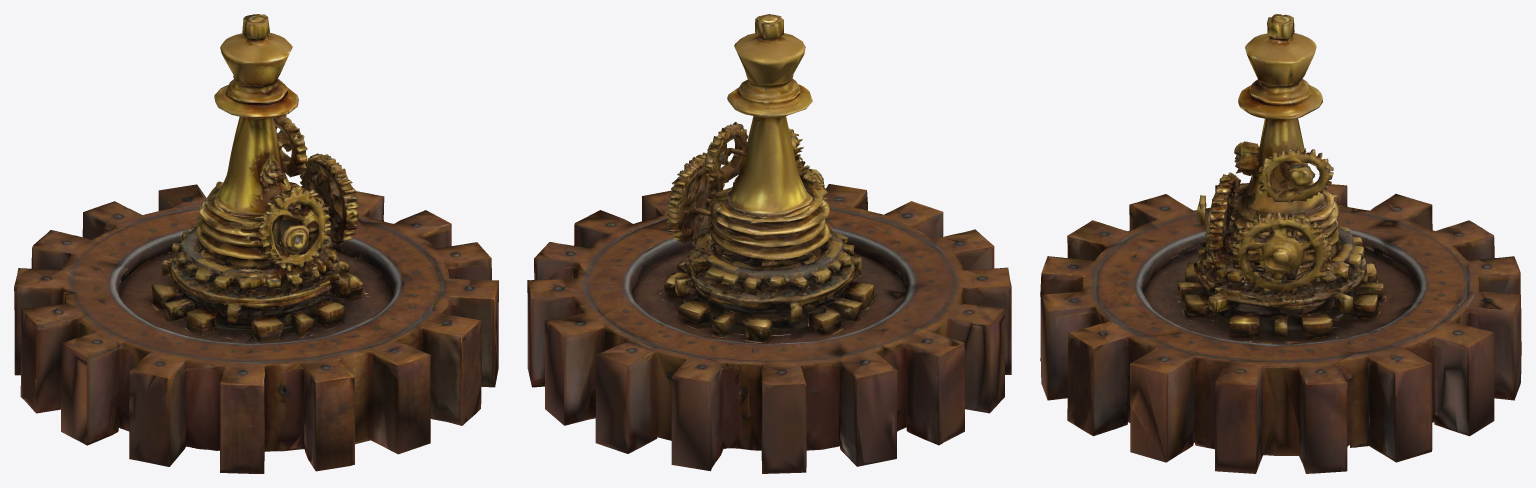
File: piece.glb
3 renders of one model, left to right at view 1: azimuth 30°, elevation 25°; view 2: azimuth 150°, elevation 25°; view 3: azimuth 270°, elevation 25°, orthographic.
Parts seen in each view (by area): view 1: Object_4; view 2: Object_4; view 3: Object_4.
Boxes of the visible parts, <box> form: Object_4: <box>14,14,498,473</box>; Object_4: <box>527,14,1011,473</box>; Object_4: <box>1040,14,1521,473</box>.
Bounding box in the file's own units: 2 × 1.63 × 2.
Materials: 1 (1 with a texture image).
